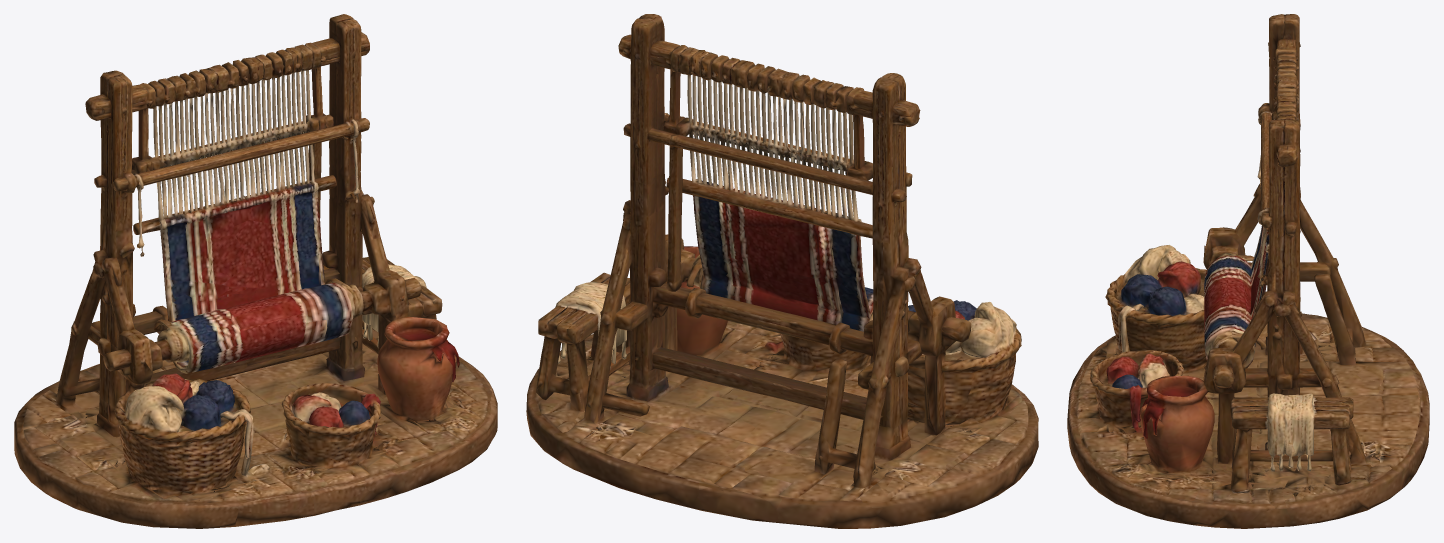
Rendered from portal_08.glb.
The picture shows the model from 3 angles, left to right: view 1: azimuth 30°, elevation 25°; view 2: azimuth 150°, elevation 25°; view 3: azimuth 270°, elevation 25°; orthographic projection. The views are drawn at different scales.
Size of the model in its own units: 0.978 by 0.8176 by 0.7514.
1 material, 1 textured.
